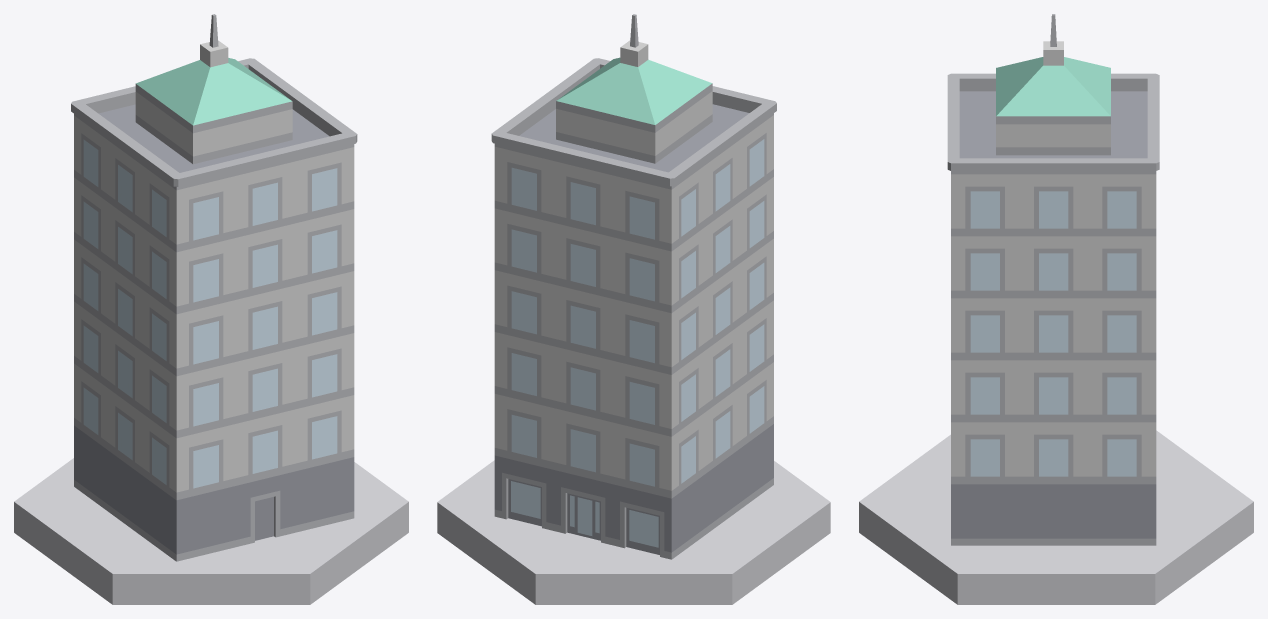
The model's file is skyscraper_6_low.fbx.
The picture shows the model from 3 angles, left to right: view 1: azimuth 30°, elevation 25°; view 2: azimuth 150°, elevation 25°; view 3: azimuth 270°, elevation 25°; orthographic projection.
Visible parts, largest first — view 1: skyscraperE.001, pavement_low.008; view 2: skyscraperE.001, pavement_low.008; view 3: skyscraperE.001, pavement_low.008.
Part boxes in pixels (box(x1,y1,x2,y2)): skyscraperE.001: box(71, 14, 357, 561); pavement_low.008: box(14, 458, 408, 604); skyscraperE.001: box(491, 14, 776, 559); pavement_low.008: box(437, 460, 830, 604); skyscraperE.001: box(947, 14, 1159, 545); pavement_low.008: box(859, 430, 1253, 604).
Size of the model in its own units: 100 by 167 by 115.
